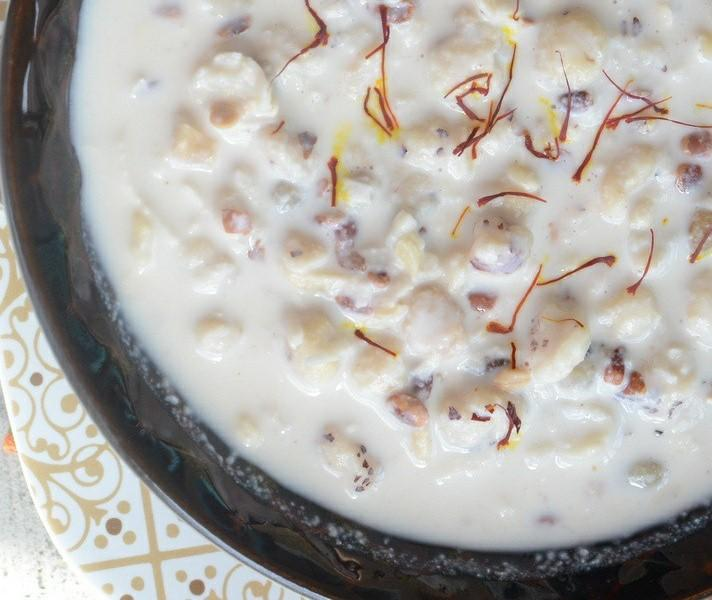Kheer: (66, 0, 712, 543)
